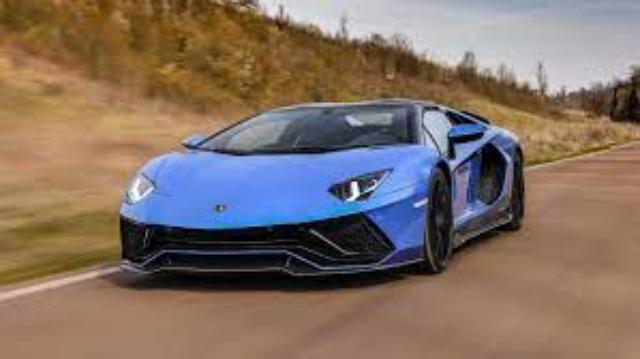lamborghini: (119, 99, 525, 279)
